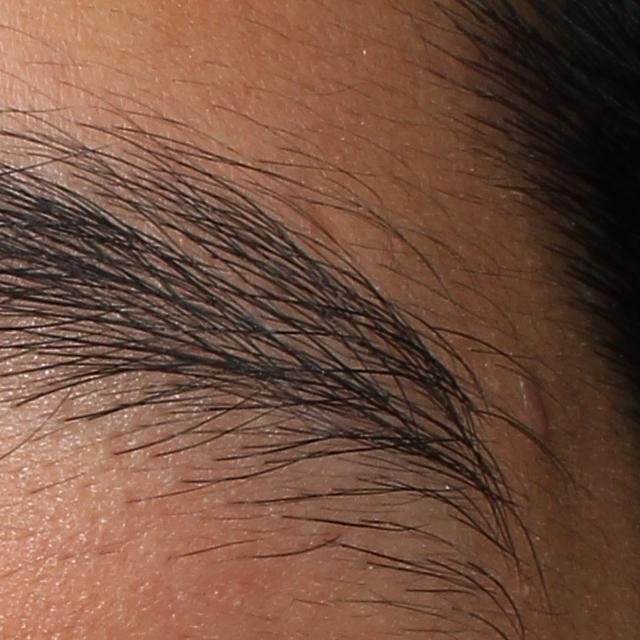papule: (510, 365, 556, 453)
